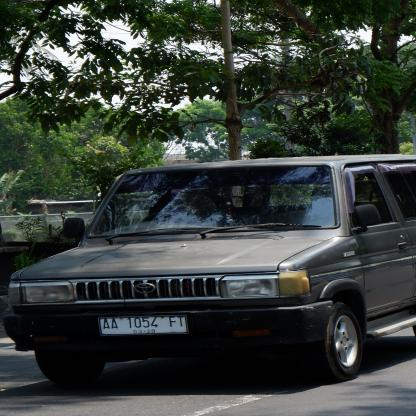Plat-Nomor: (97, 314, 190, 336)
